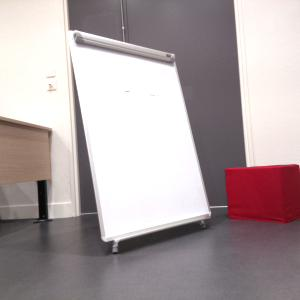big: (68, 30, 213, 250)
medium: (225, 166, 300, 224)
